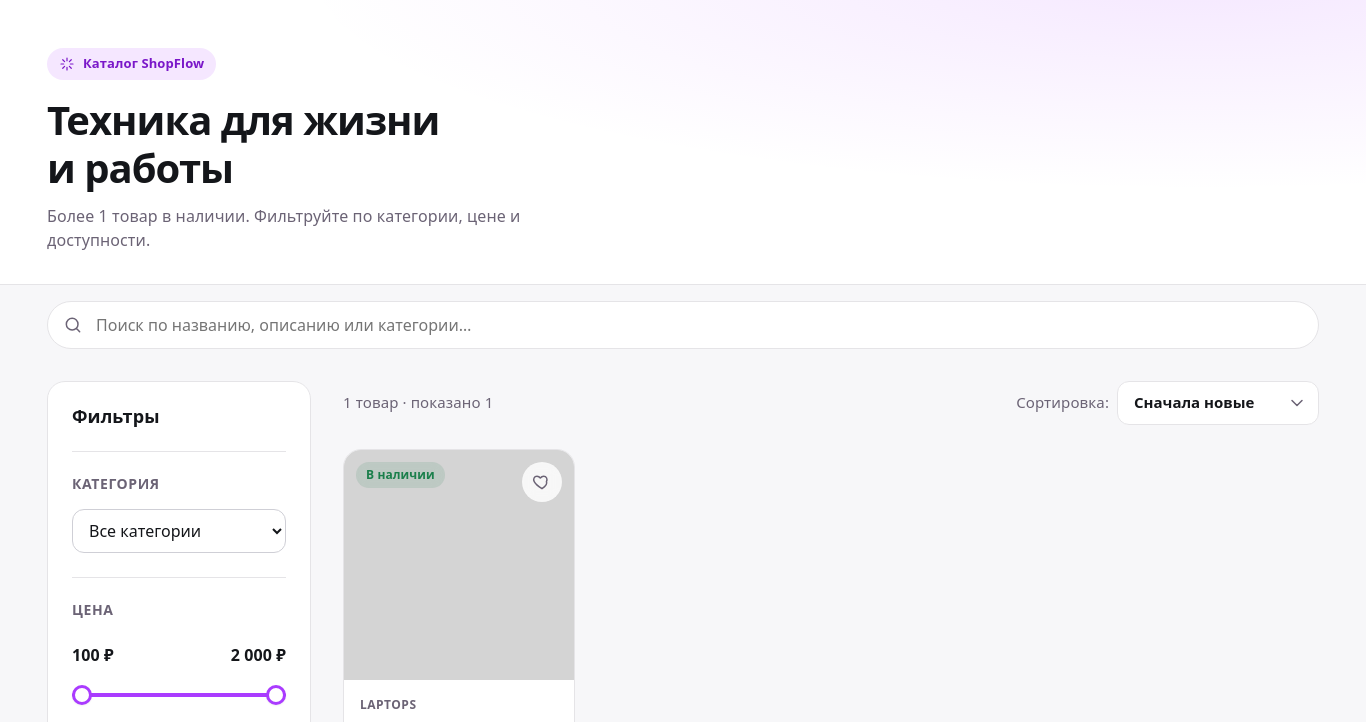
Test: CatalogPage (features/catalog) › фильтр по категории и чип активного фильтра
Select "— Laptops" in the dropdown named "Категория товара" at (179, 531), box [72,509,286,553]
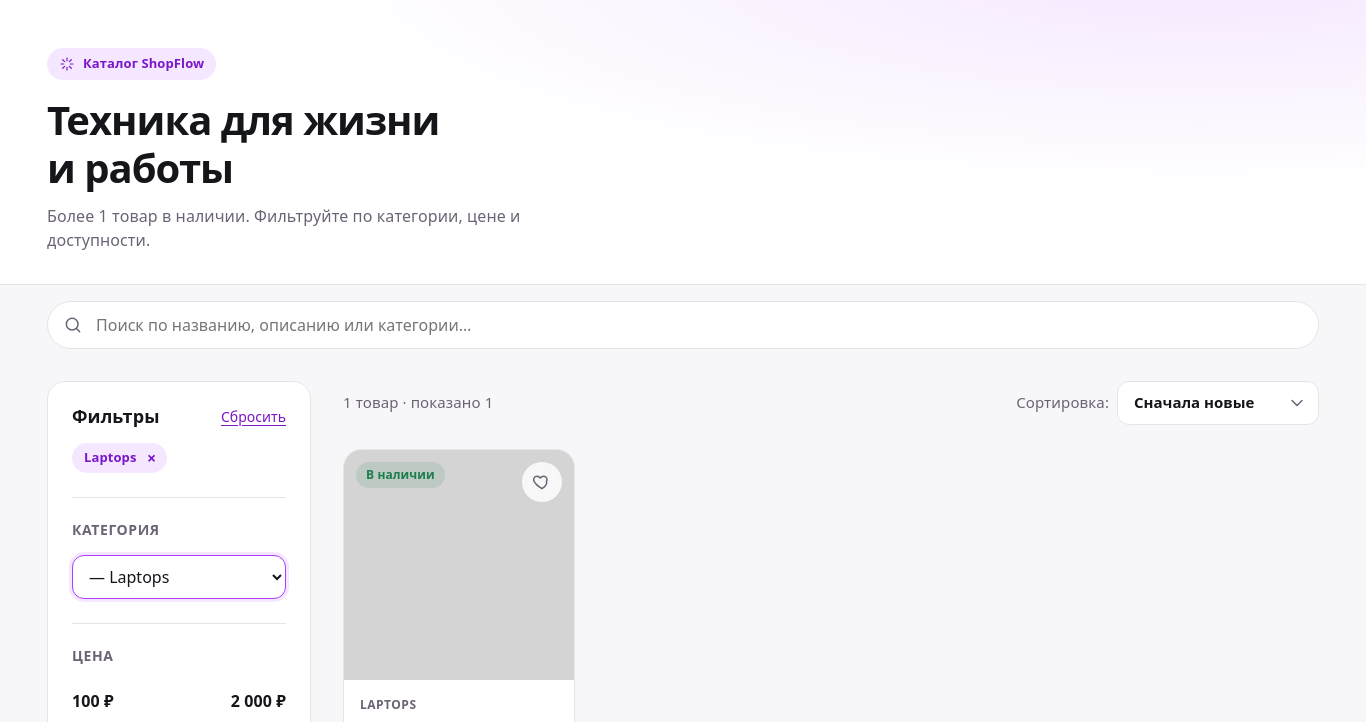
expect the 1st text "Laptops" is shown: met, box [84,448,136,468]
